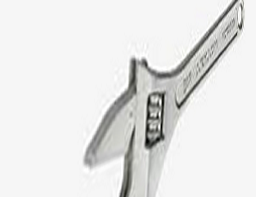Wrench: (73, 5, 243, 197)
